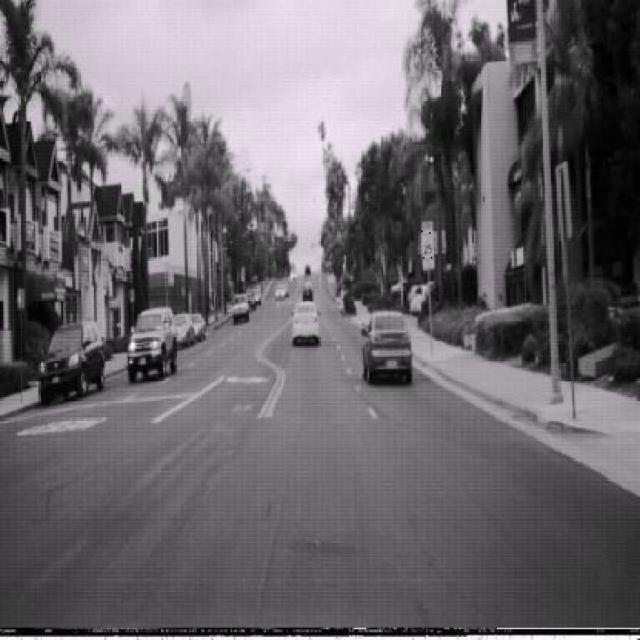schoolSpeedLimit25: (420, 219, 435, 271)
